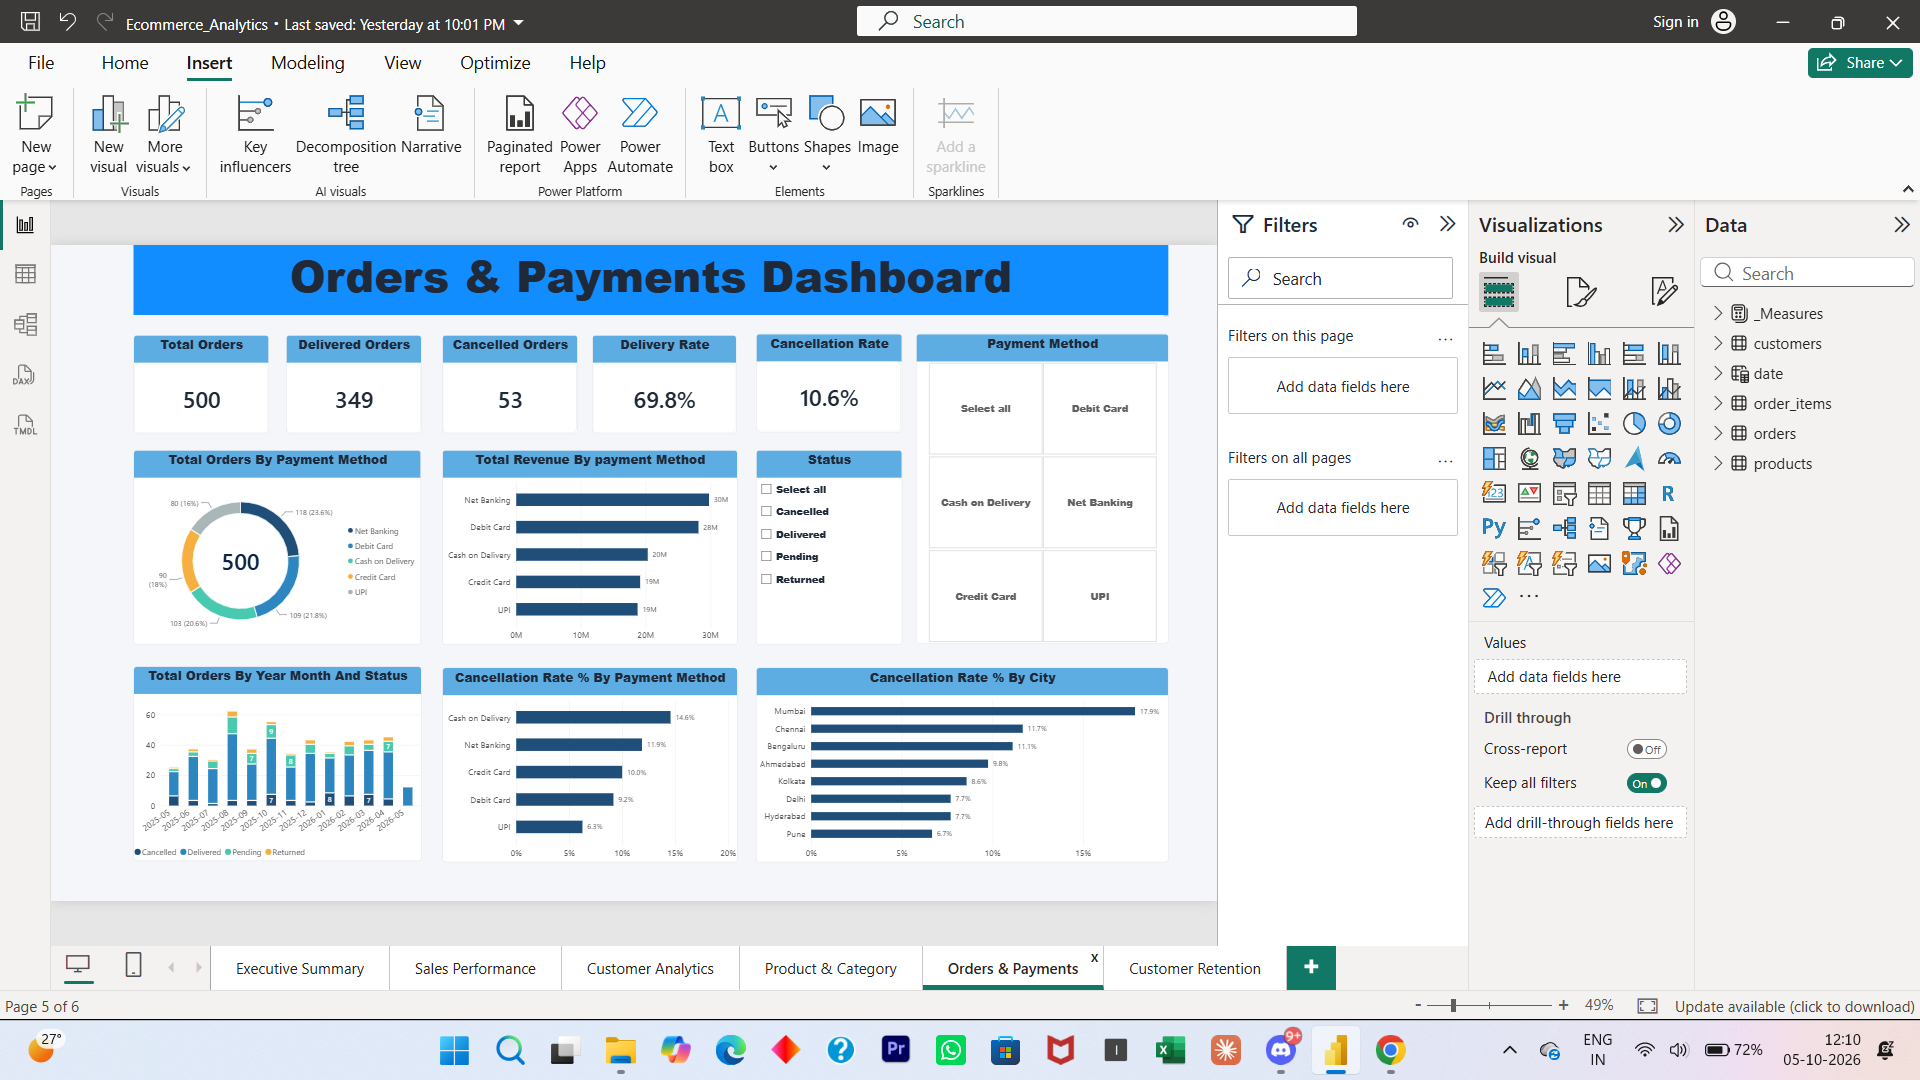

What the dashboard file says about the page in this screenshot:
{"tool":"powerbi","page":{"name":"Orders & Payments","canvas":[1920,1080],"ordinal":4},"visuals":[{"type":"cardVisual","title":"Delivered Orders","fields":{"Data":["_Measures.Delivered_Orders"]},"box":[386.6,148.7,223.1,163.6],"z":0},{"type":"cardVisual","title":"Cancellation Rate","fields":{"Data":["_Measures.Cancellation_Rate %"]},"box":[1160.9,146.1,240.8,162.6],"z":1000},{"type":"cardVisual","title":"Delivery Rate","fields":{"Data":["_Measures.Delivery_Rate %"]},"box":[892.2,148.7,237.9,163.6],"z":2000},{"type":"cardVisual","title":"Cancelled Orders","fields":{"Data":["_Measures.Cancelled_Orders"]},"box":[643.7,148.7,223.1,163.6],"z":3000},{"type":"textbox","title":"Orders & Payments Dashboard","box":[135.8,0,1704.3,117.3],"z":4000},{"type":"cardVisual","title":"Total Orders","fields":{"Data":["_Measures.Total Orders"]},"box":[136,148.7,223.1,163.6],"z":5000},{"type":"donutChart","title":"Total Orders By Payment Method","fields":{"Category":["orders.payment_method"],"Y":["_Measures.Total Orders"]},"box":[136,337.8,473.7,320.8],"z":6000},{"type":"clusteredBarChart","title":"Total Revenue By payment Method","fields":{"Category":["orders.payment_method"],"Y":["_Measures.Total Revenue"]},"box":[643.7,337.8,486.5,320.8],"z":7000},{"type":"columnChart","title":"Total Orders By Year Month And Status","fields":{"Category":["date.Year-Month"],"Series":["orders.status"],"Y":["_Measures.Total Orders"]},"box":[136,694.7,474,321],"z":8000},{"type":"clusteredBarChart","title":"Cancellation Rate % By Payment Method","fields":{"Category":["orders.payment_method"],"Y":["_Measures.Cancellation Rate %"]},"box":[644,695,486,321],"z":9000},{"type":"clusteredBarChart","title":"Cancellation Rate % By City","fields":{"Category":["customers.city"],"Y":["_Measures.Cancellation Rate %"]},"box":[1160.9,695.7,679.2,321.1],"z":10000},{"type":"slicer","title":"Status","fields":{"Values":["orders.status"]},"box":[1160.9,337.6,240.8,321.1],"z":11000},{"type":"slicer","title":"Payment Method","fields":{"Values":["orders.payment_method"]},"box":[1424.4,146.1,415.8,510.5],"z":12000}]}

Visuals, with their boxes on the page's 1920x1080 design canvas (x1, y1, x2, y2). These are canvas units, not pixel positions in the 1920x1080 screenshot, which may show the page scaled, cropped or inside an application window:
"Delivered Orders" cardVisual: (387,149,610,312)
"Cancellation Rate" cardVisual: (1161,146,1402,309)
"Delivery Rate" cardVisual: (892,149,1130,312)
"Cancelled Orders" cardVisual: (644,149,867,312)
"Orders & Payments Dashboard" textbox: (136,0,1840,117)
"Total Orders" cardVisual: (136,149,359,312)
"Total Orders By Payment Method" donutChart: (136,338,610,659)
"Total Revenue By payment Method" clusteredBarChart: (644,338,1130,659)
"Total Orders By Year Month And Status" columnChart: (136,695,610,1016)
"Cancellation Rate % By Payment Method" clusteredBarChart: (644,695,1130,1016)
"Cancellation Rate % By City" clusteredBarChart: (1161,696,1840,1017)
"Status" slicer: (1161,338,1402,659)
"Payment Method" slicer: (1424,146,1840,657)
